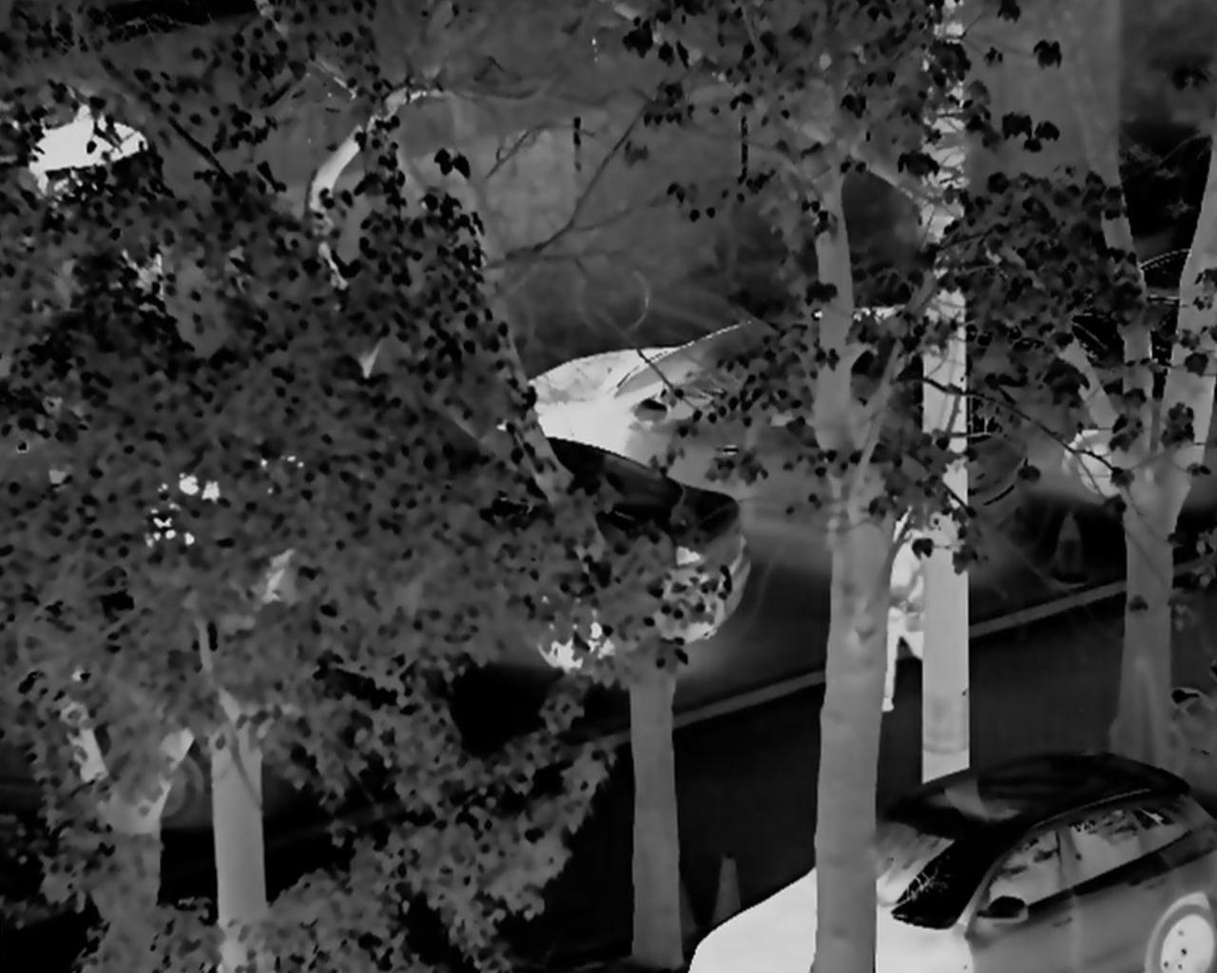person: (872, 505, 937, 717)
